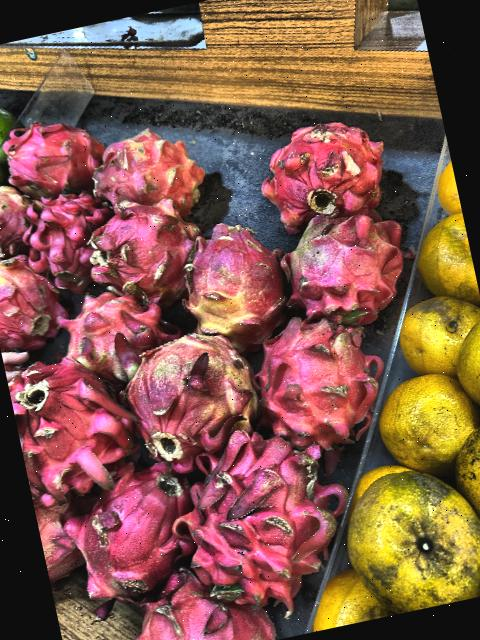buah-naga-belum-matang: (120, 320, 266, 464), (174, 205, 290, 346), (88, 123, 208, 221), (60, 286, 172, 386), (0, 247, 75, 351), (0, 186, 44, 269)
buah-naga-matang: (156, 425, 353, 612), (239, 303, 389, 457), (267, 195, 420, 344), (4, 344, 140, 496), (65, 462, 209, 592), (257, 106, 389, 226), (86, 196, 200, 306), (117, 569, 286, 640), (0, 114, 105, 199), (20, 186, 106, 286)
